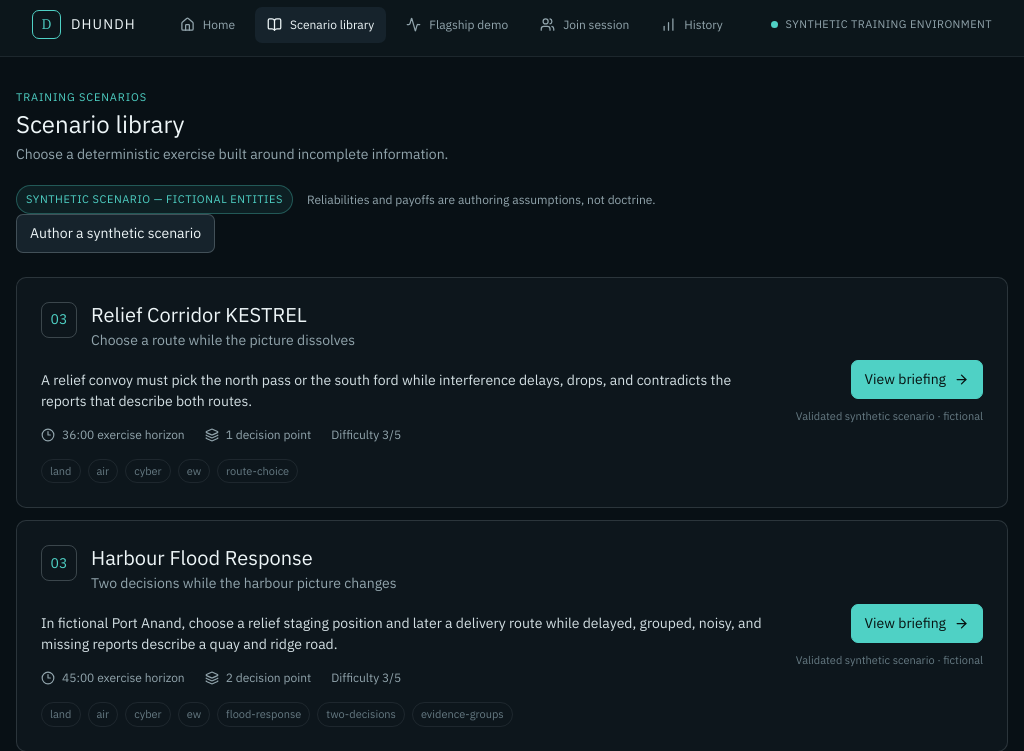
Scenario: local trainee journey › browses a validated scenario, starts the engine, and opens a delivered report
The image size is (1024, 751).
Expected: the text "Relief Corridor KESTREL" is shown, [91,301,307,328]
Click the 1st button with test id "scenario-launch": click(917, 380) [851,360,983,399]
(page scrolled)
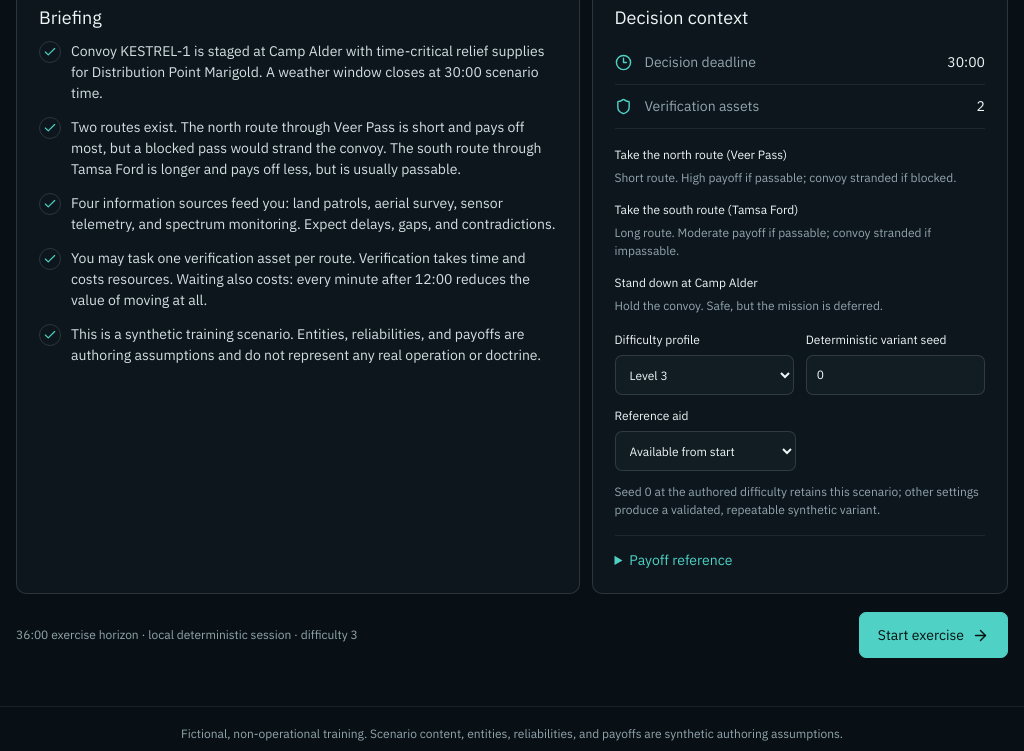
Click the button with test id "start-exercise": click(933, 635) [859,612,1008,658]
(page scrolled)
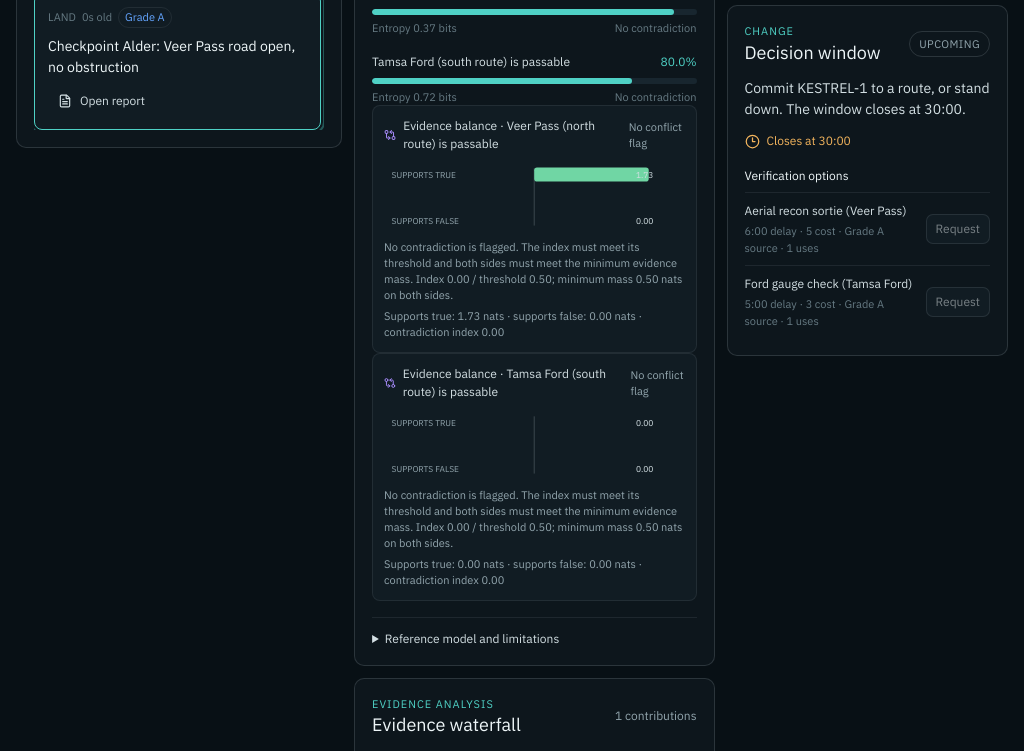
Expected: the button with test id "open-report-R01" is shown
Click the button with test id "open-report-R01": click(102, 101) [48,86,155,116]
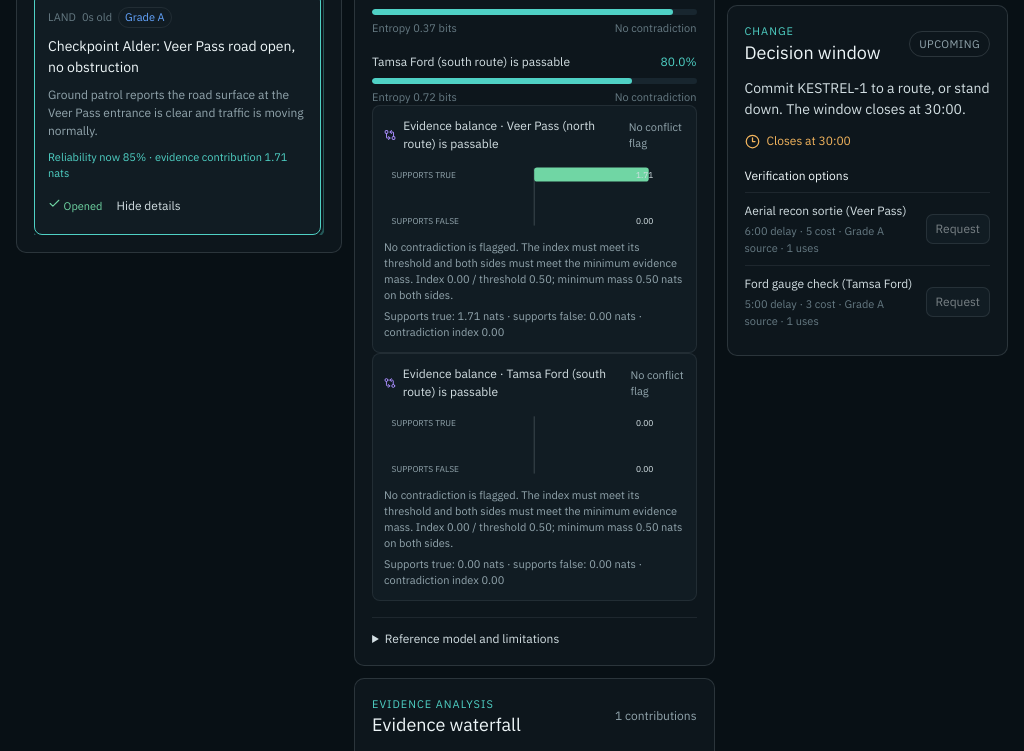
Expected: the text "Opened" is shown, [48,197,102,215]
